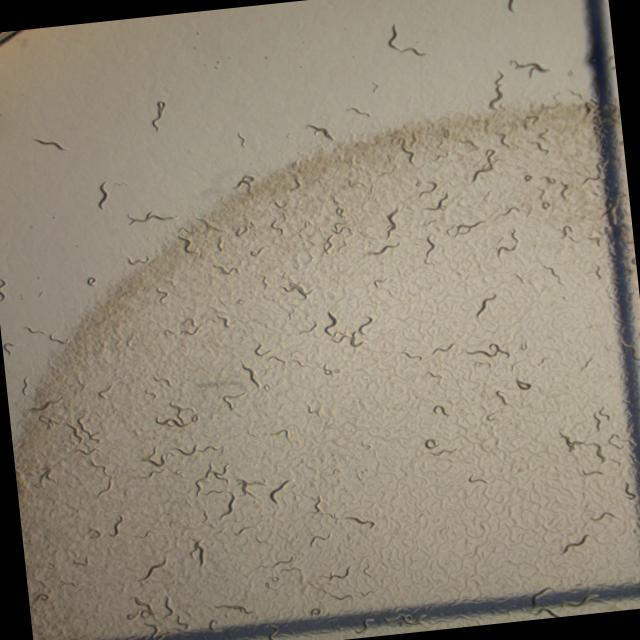filarid: (386, 23, 426, 56), (137, 557, 167, 582), (466, 342, 510, 358), (350, 316, 372, 347), (488, 71, 504, 109), (509, 60, 548, 75), (129, 211, 173, 224), (474, 149, 493, 179), (269, 480, 291, 503), (312, 496, 335, 518), (561, 535, 587, 554), (150, 100, 165, 132), (424, 191, 448, 211), (475, 294, 495, 317), (188, 539, 205, 566), (32, 138, 67, 151), (386, 204, 399, 239), (219, 491, 235, 519), (365, 242, 399, 255), (420, 233, 434, 264), (416, 180, 438, 199), (96, 182, 109, 209), (307, 124, 332, 138), (456, 221, 482, 233), (345, 516, 373, 527), (324, 312, 337, 335), (233, 175, 254, 188), (430, 344, 453, 355), (493, 391, 506, 405), (347, 108, 369, 116), (514, 379, 530, 390), (401, 351, 421, 359), (419, 219, 437, 227), (433, 405, 447, 415), (0, 278, 6, 301), (236, 132, 245, 147), (3, 342, 14, 353), (87, 276, 96, 285), (507, 0, 513, 11), (372, 82, 378, 92), (414, 179, 421, 187), (25, 327, 34, 333), (202, 511, 206, 521), (144, 532, 148, 537)
